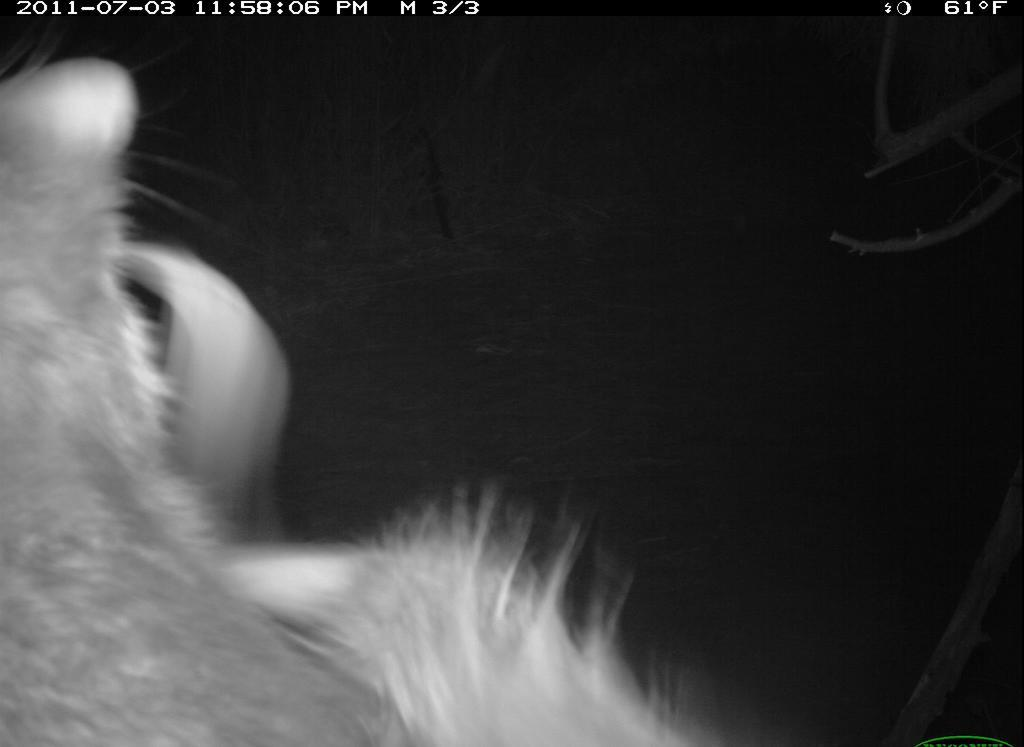raccoon: (3, 50, 754, 747)
